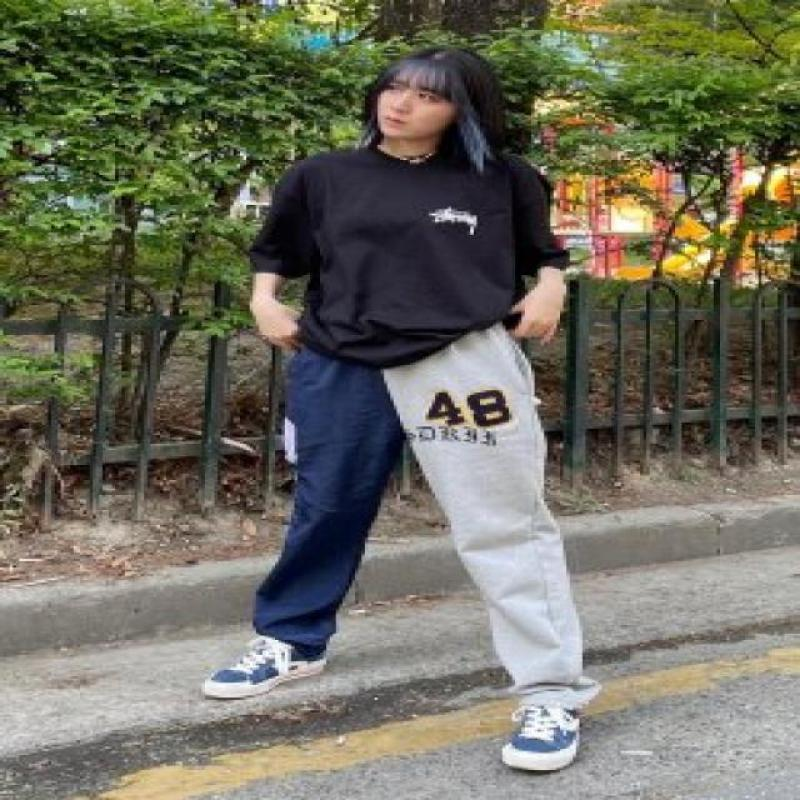short sleeve shirt: (244, 139, 574, 372)
trousers: (249, 344, 604, 709)
